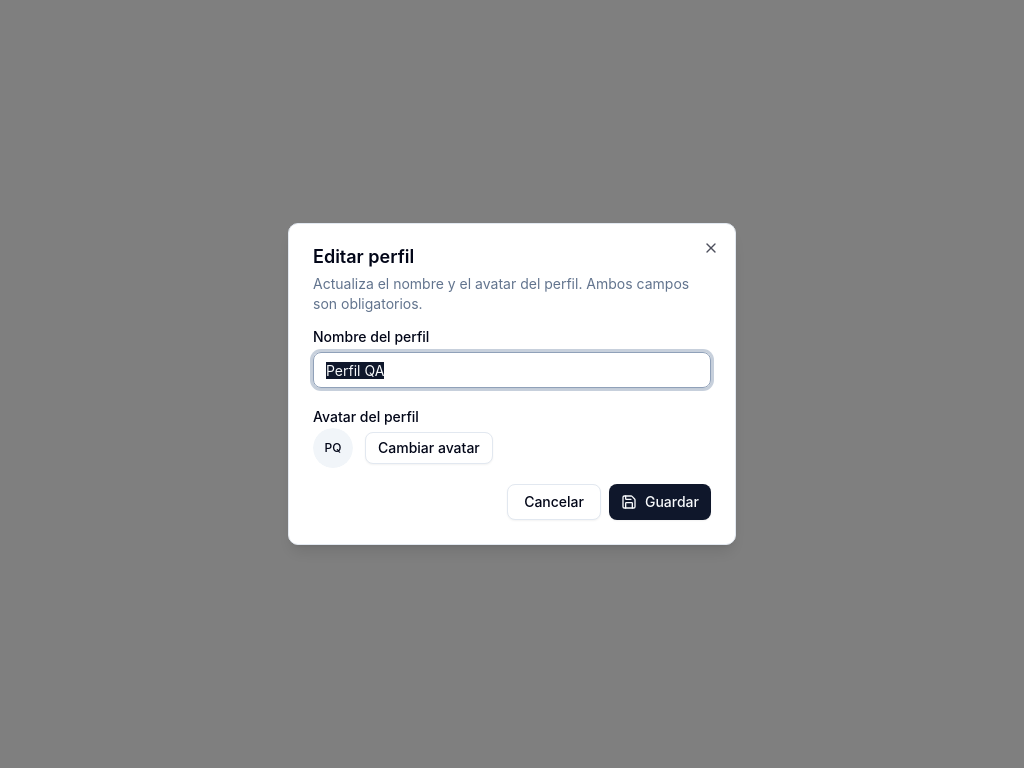
EditProfileDialog › conserva el formulario y el diálogo abiertos ante un error de API
Replace the text in the field labelled "Nombre del perfil" with "Nombre en edición" at (512, 370), box x1=313 y1=352 x2=711 y2=388
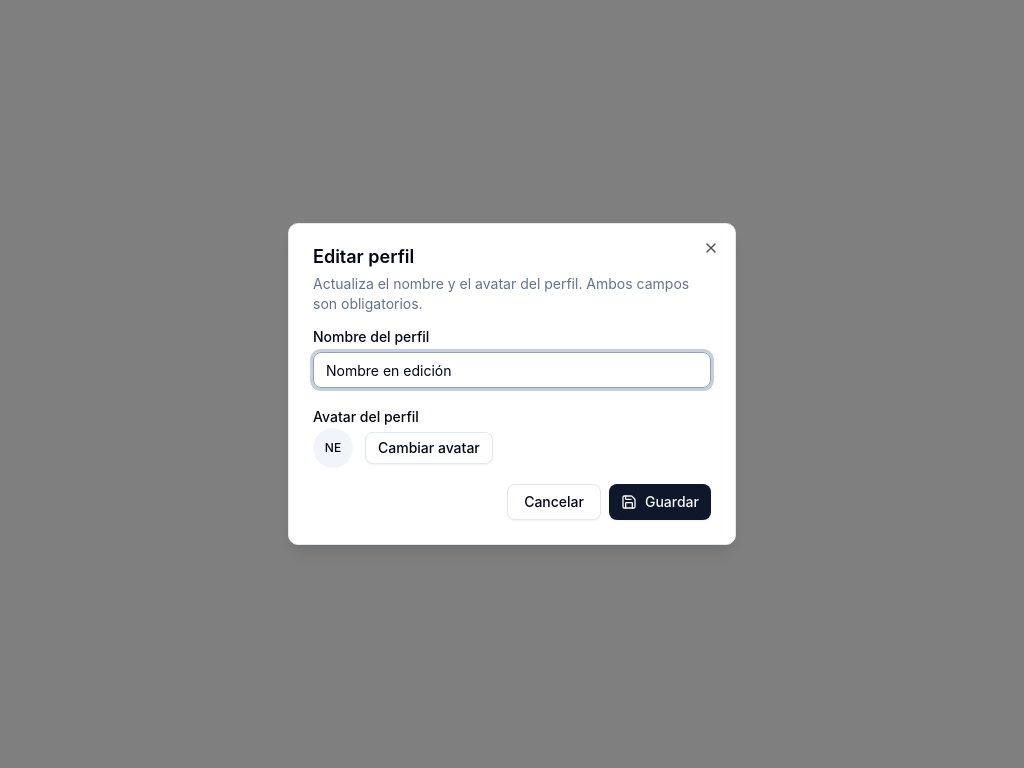
Click the button "Guardar" at (660, 502), box x1=609 y1=484 x2=711 y2=520
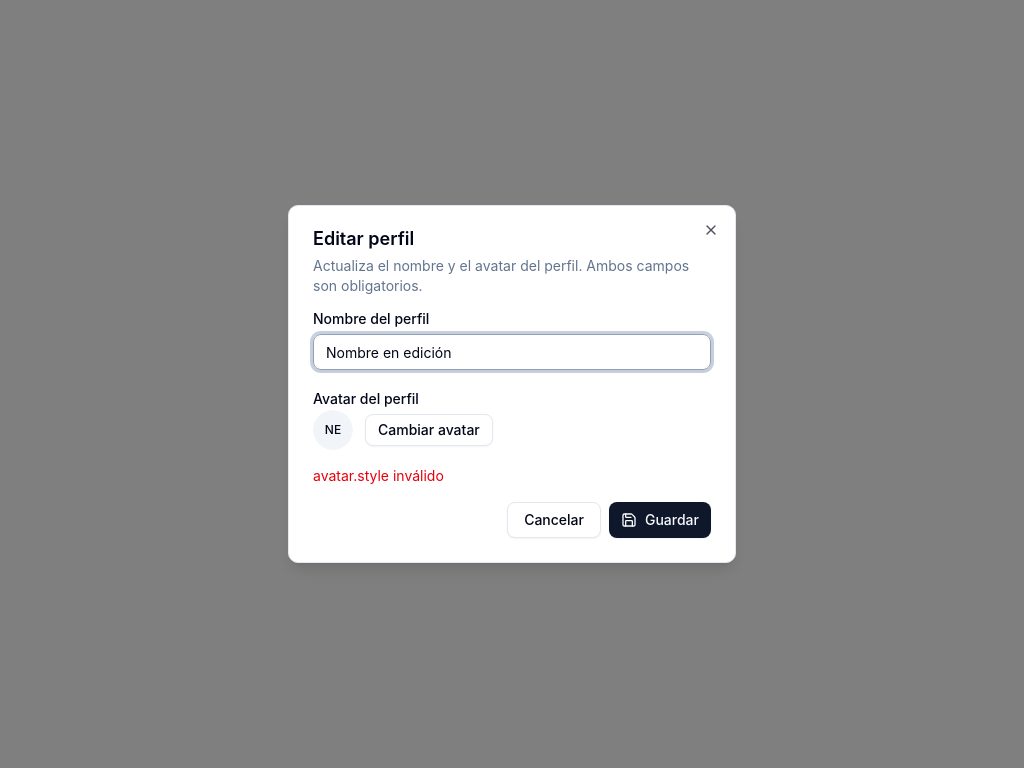
Expected: the button "Cambiar avatar" is shown, x1=365 y1=414 x2=493 y2=446
Now the message reads "avatar.style inválido", box x1=313 y1=467 x2=444 y2=484
